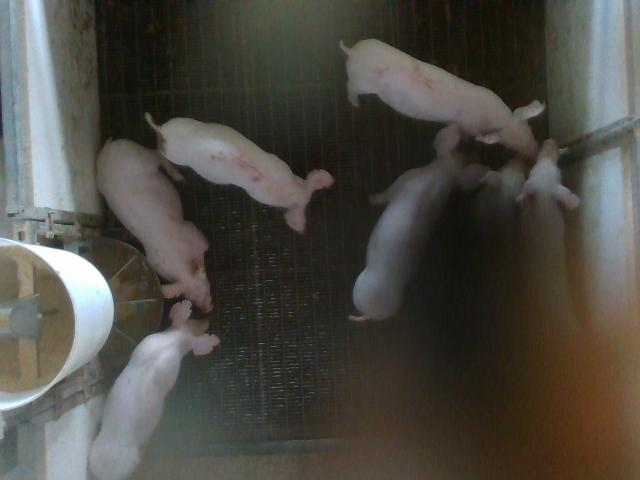pig-5: (145, 112, 334, 233)
